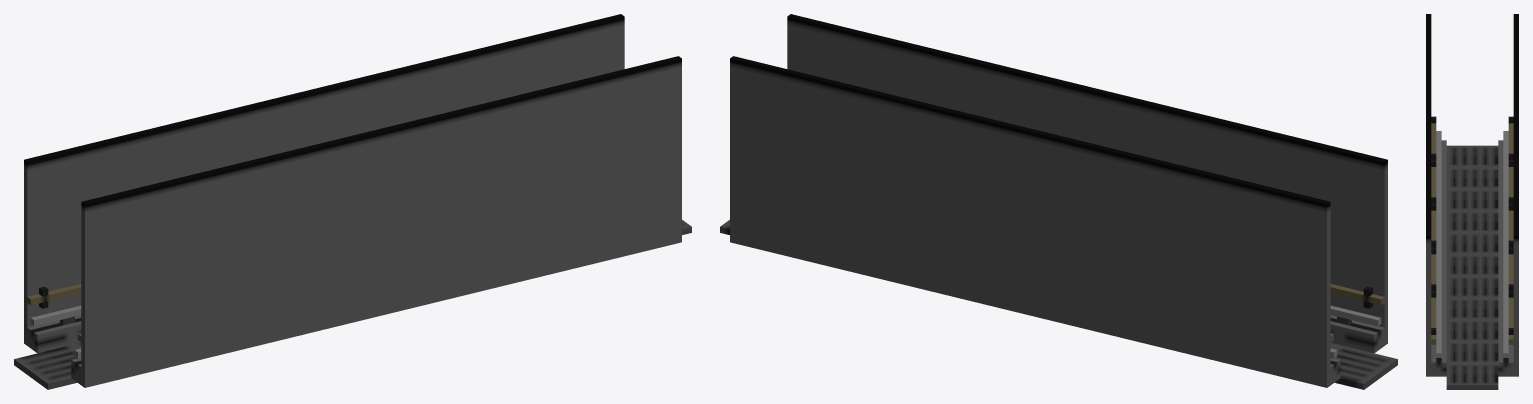
Rendered from _LevelBridgeAcross.fbx.
3 views of the same model, side by side, from view 1: azimuth 30°, elevation 25°; view 2: azimuth 150°, elevation 25°; view 3: azimuth 270°, elevation 25° (orthographic). The views are drawn at different scales.
Parts seen in each view (by area): view 1: Union; view 2: Union; view 3: Union.
Part boxes in pixels (x1,y1,x2,y2): Union: (14, 14, 691, 389); Union: (720, 14, 1397, 389); Union: (1426, 14, 1518, 389).
Size of the model in its own units: 110 by 31 by 18.
